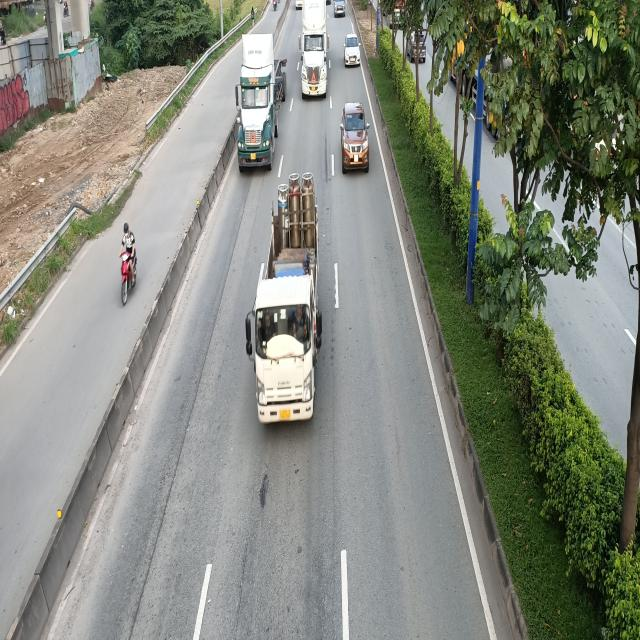car: (340, 103, 370, 174), (344, 33, 361, 66)
container: (233, 30, 288, 169), (297, 0, 328, 99)
truck: (242, 178, 324, 436)
